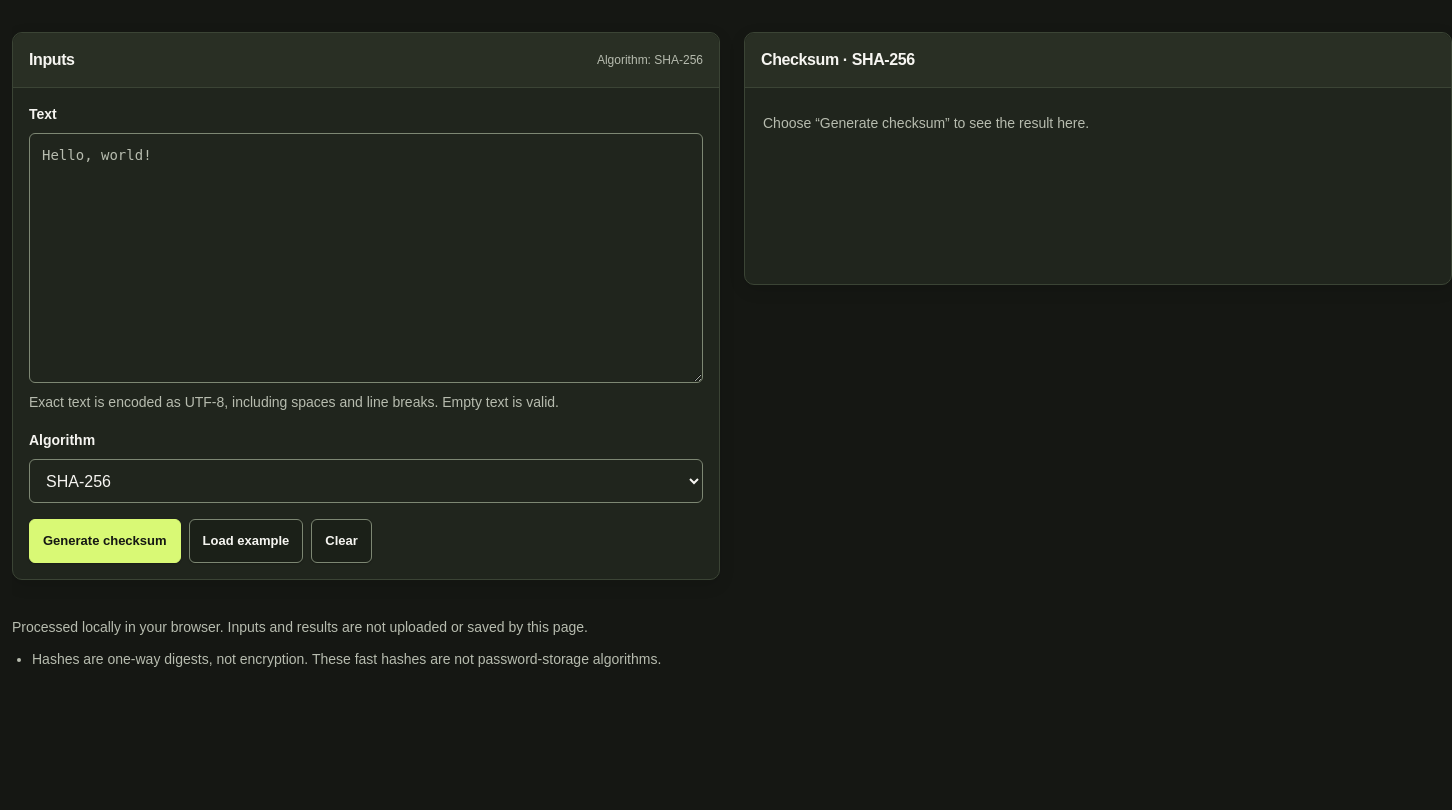
Scenario: Security dark DOM theme (not visual proof) › checksum-generator has only contracted controls, keyboard actions, exact copies and no transmission
This screenshot has width=1452, height=810.
Press Tab
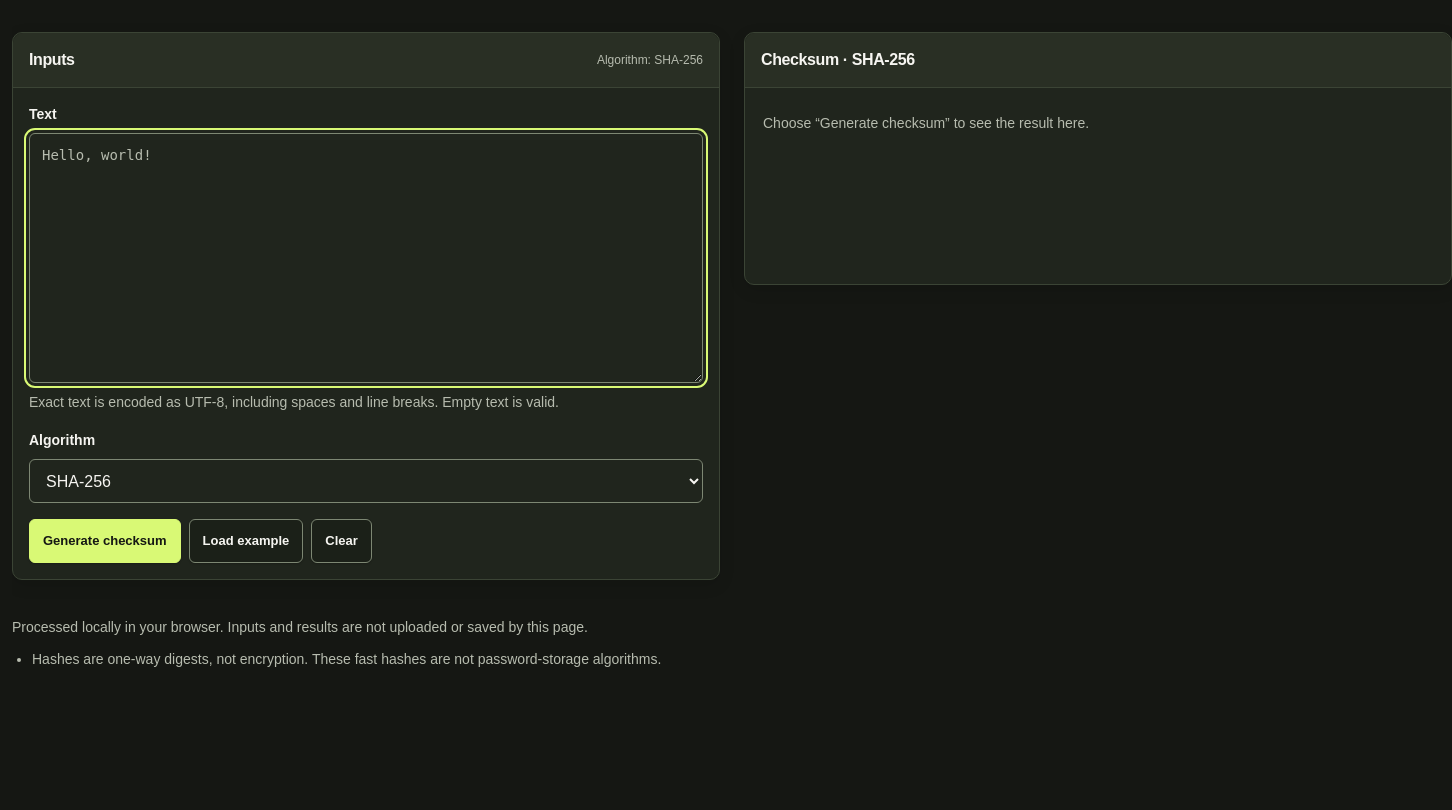
Click the button "Load example": (246, 542) [189,520,303,564]
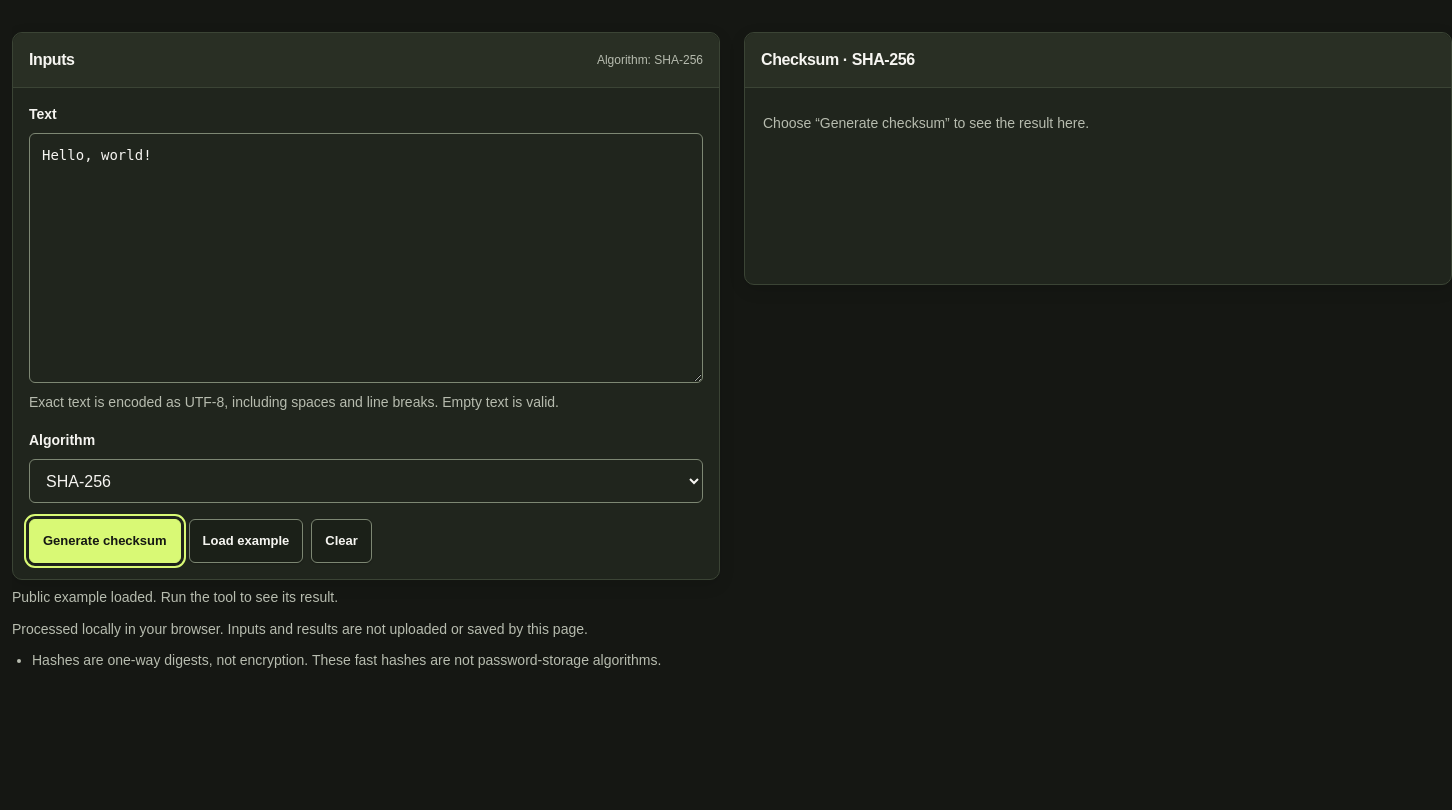
Press Enter
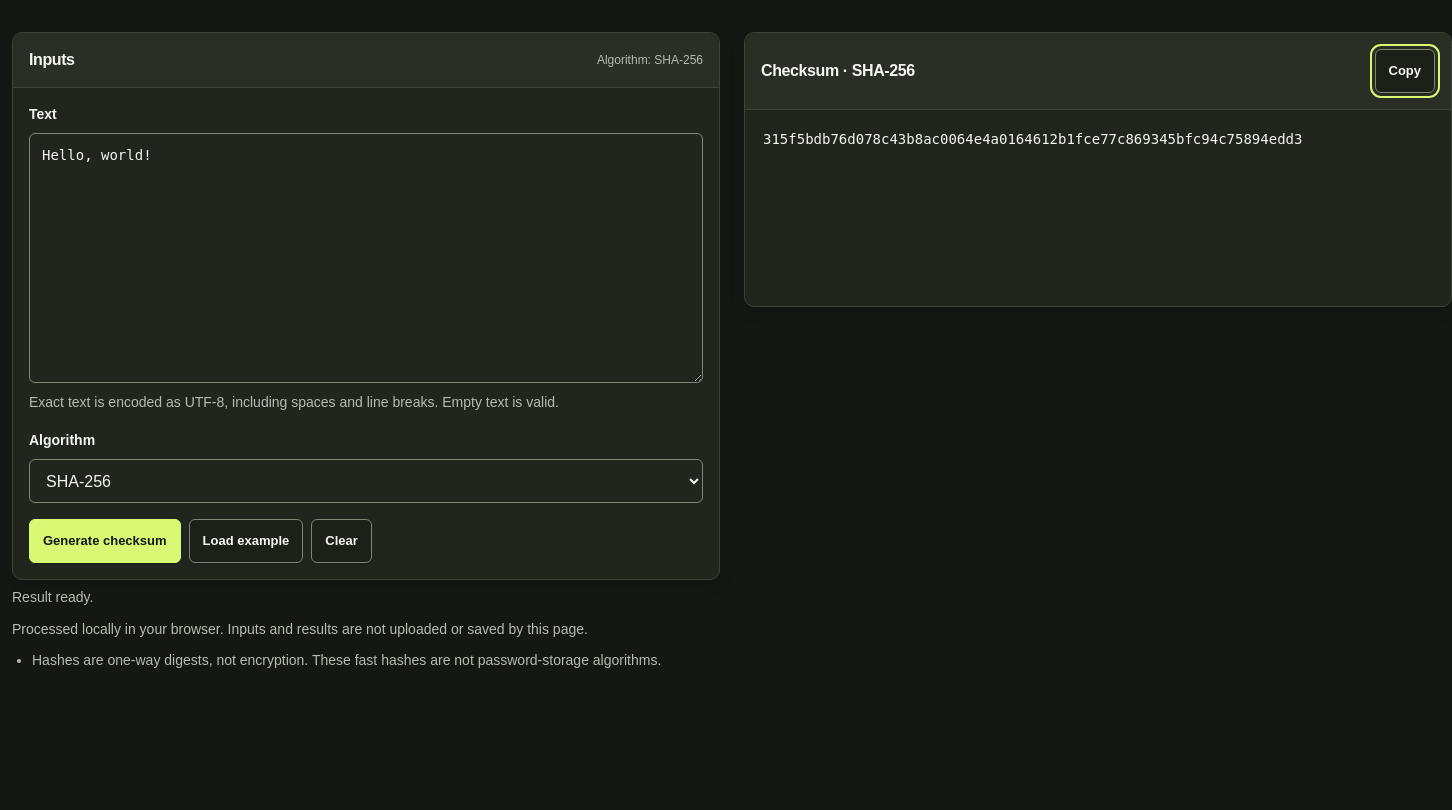
Press Enter
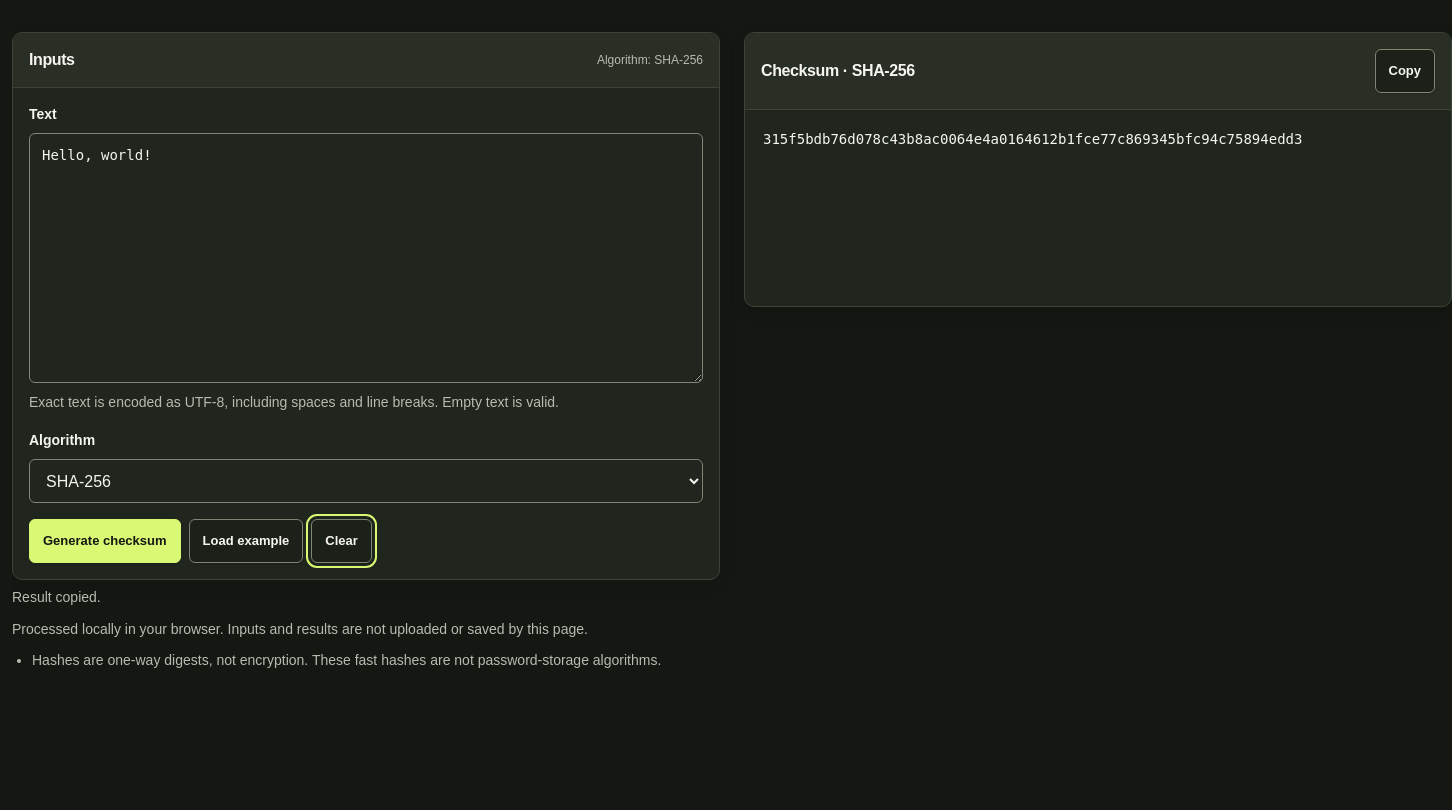
Press Enter
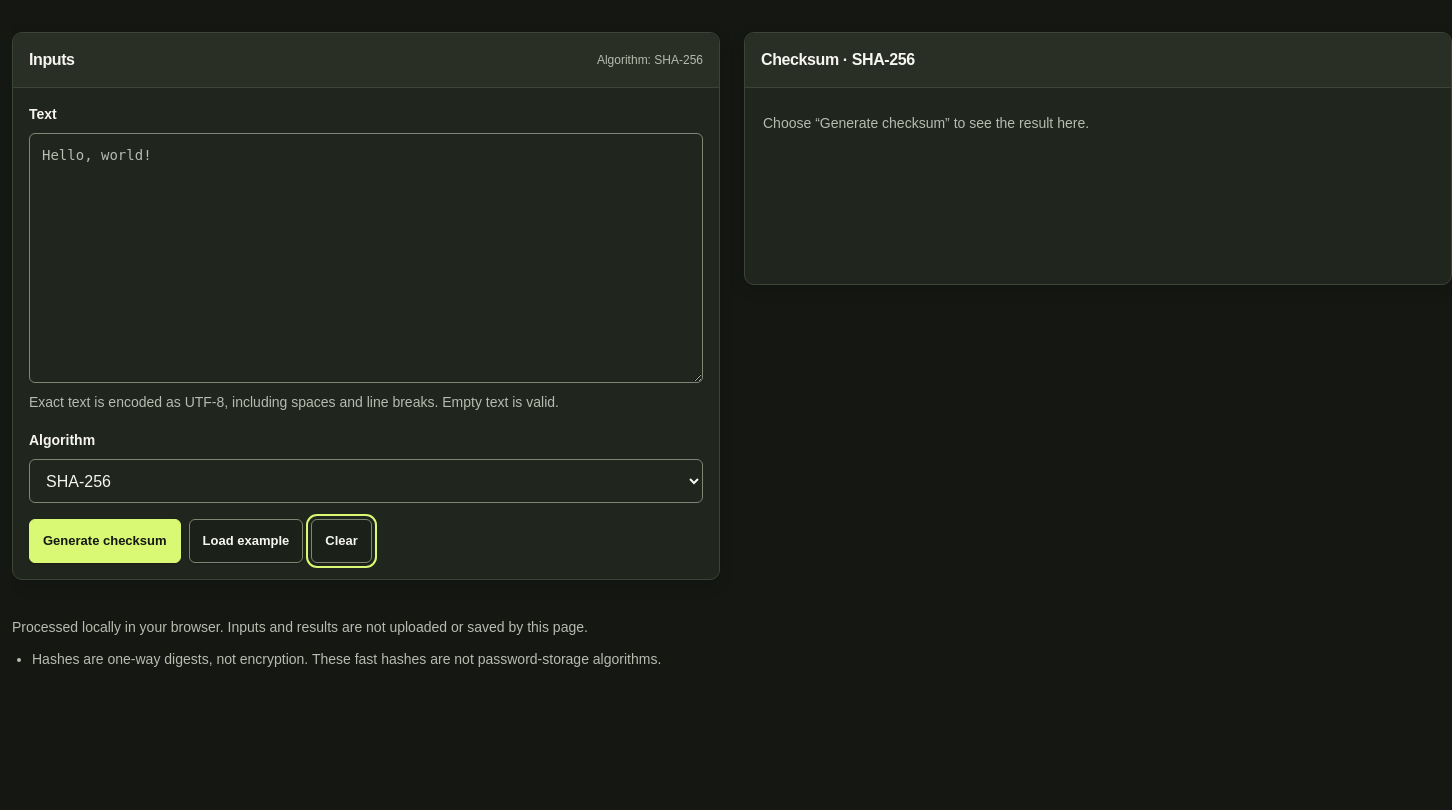
Check: the dropdown labelled "Algorithm" shows "SHA-256", box [29,460,703,504]
Check: the text box labelled "Text" is empty, box [29,133,703,383]
Check: the button "Copy" is gone
